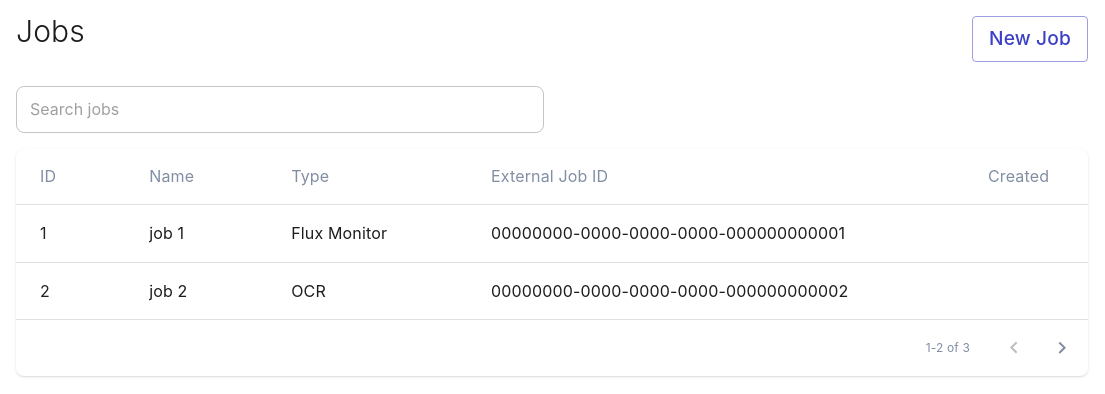
Test case: JobsScreen › can page through the list of jobs
expect the text "job 1" is shown: met, box [125,205,267,262]
expect the text "job 2" is shown: met, box [125,262,267,319]
Click the button named "next-page": (1062, 348) [1038,324,1086,372]
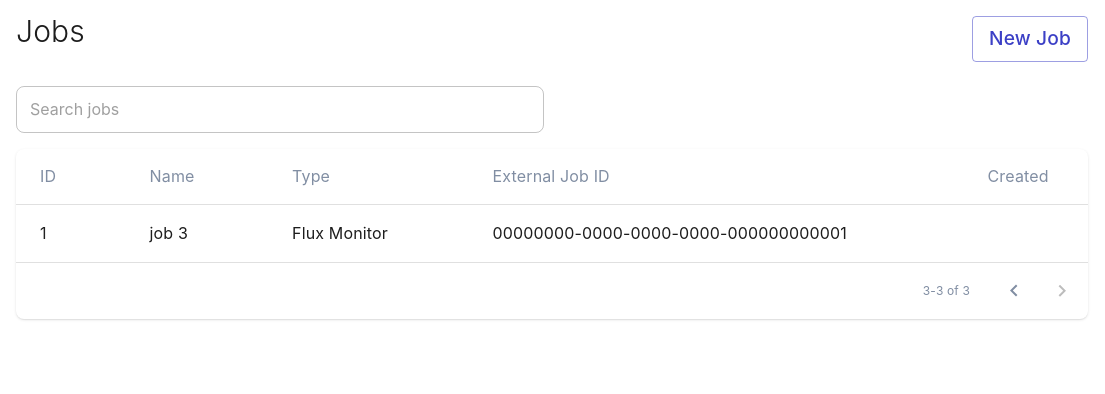
expect the text "job 3" is shown: met, box [126,205,268,262]
expect the text "3-3 of 3" is shown: met, box [923,281,970,300]
expect the button named "next-page" is disabled: met, box [1038,266,1086,314]
Click the button named "prev-page": (1014, 290) [990,266,1038,314]
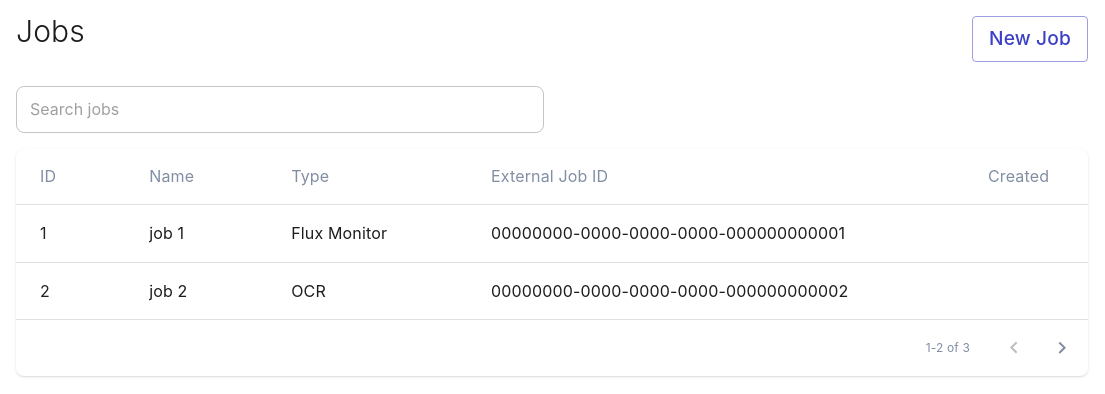
expect the text "job 1" is shown: met, box [125,205,267,262]
expect the text "job 2" is shown: met, box [125,262,267,319]
expect the text "1-2 of 3" is shown: met, box [926,338,970,358]
